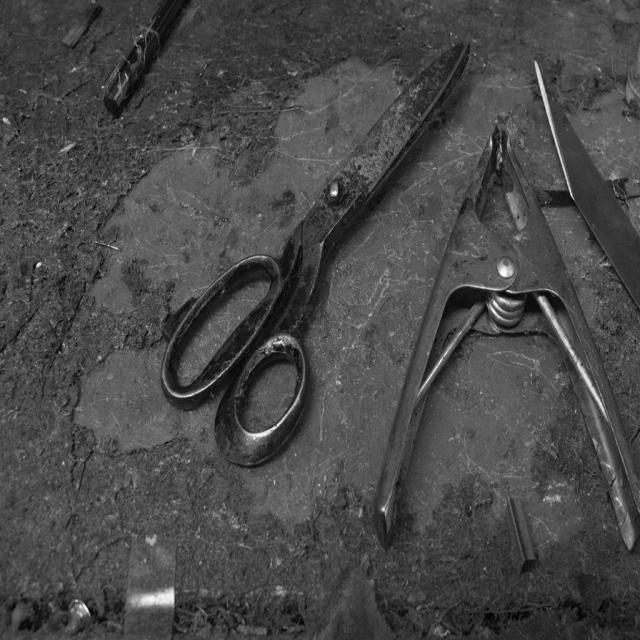scissors: (160, 39, 470, 468)
